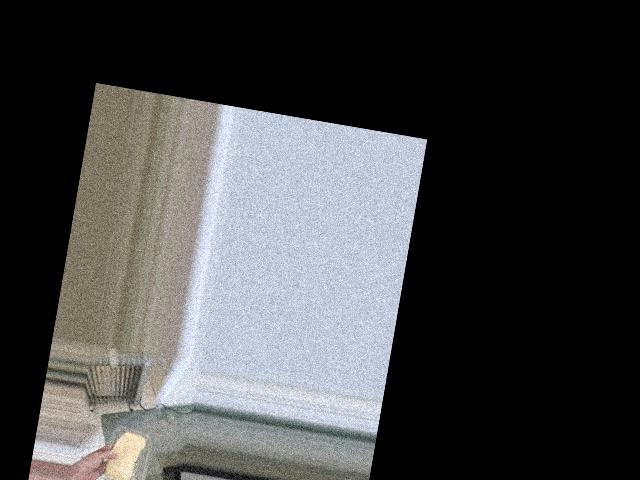cheese: (98, 421, 153, 480)
